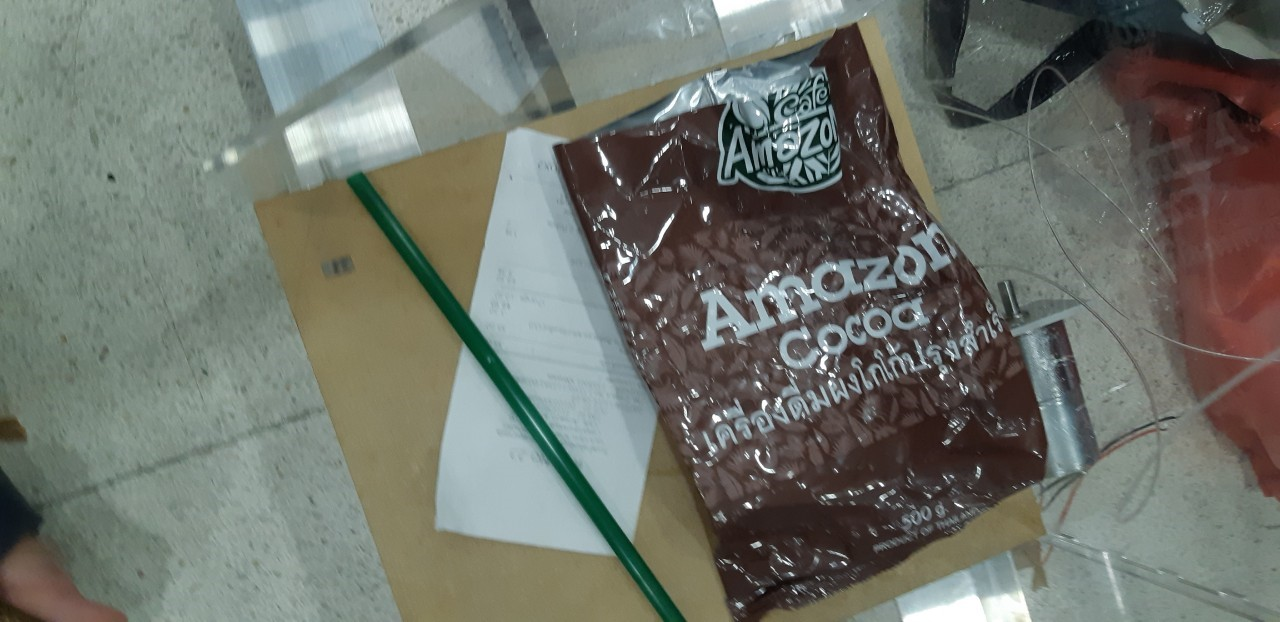Others: (555, 27, 1045, 622), (343, 165, 689, 622), (422, 126, 655, 556)
